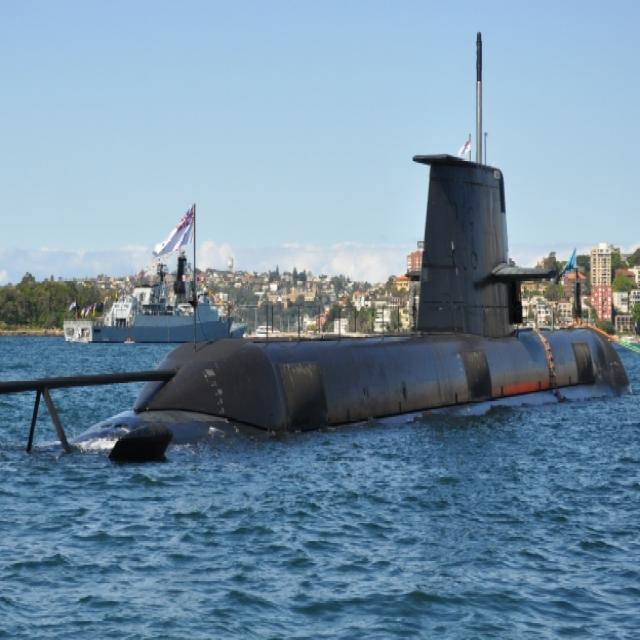submarine: (1, 156, 640, 464)
